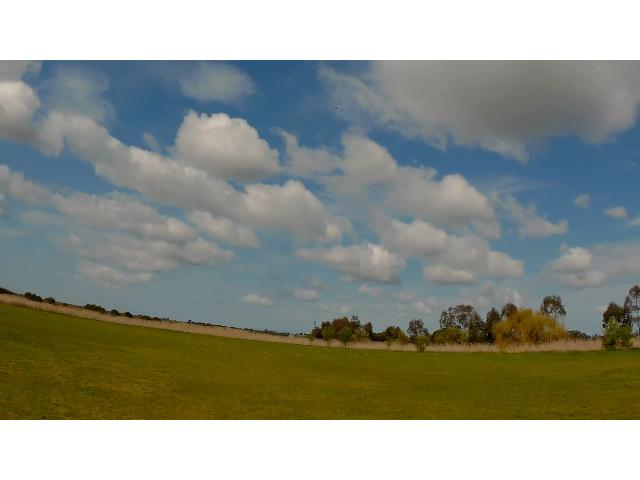Anti-Drone: (326, 99, 348, 119)
